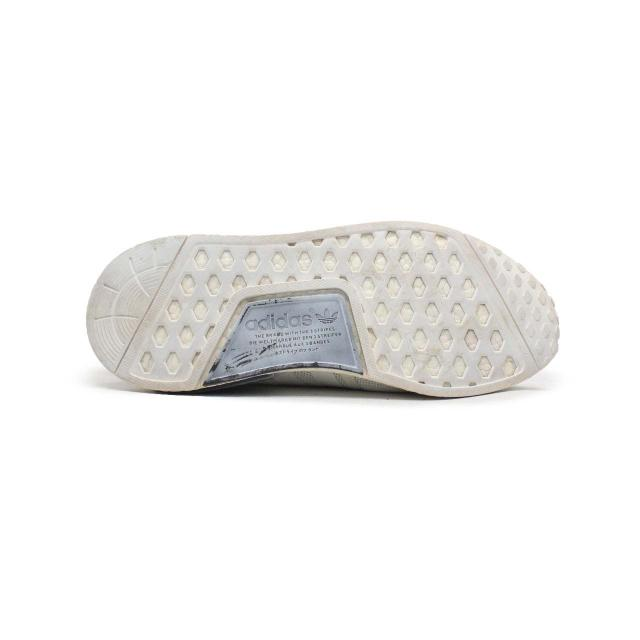outersole: (84, 221, 560, 399)
